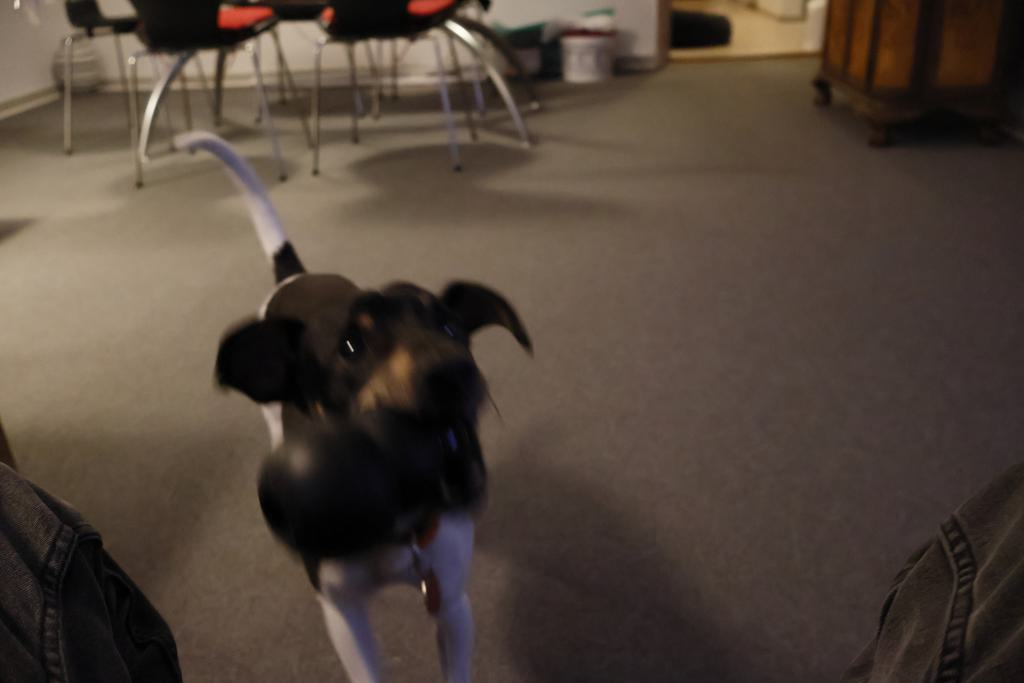Dog: (161, 119, 547, 683)
Humanoid: (0, 451, 1024, 683)
